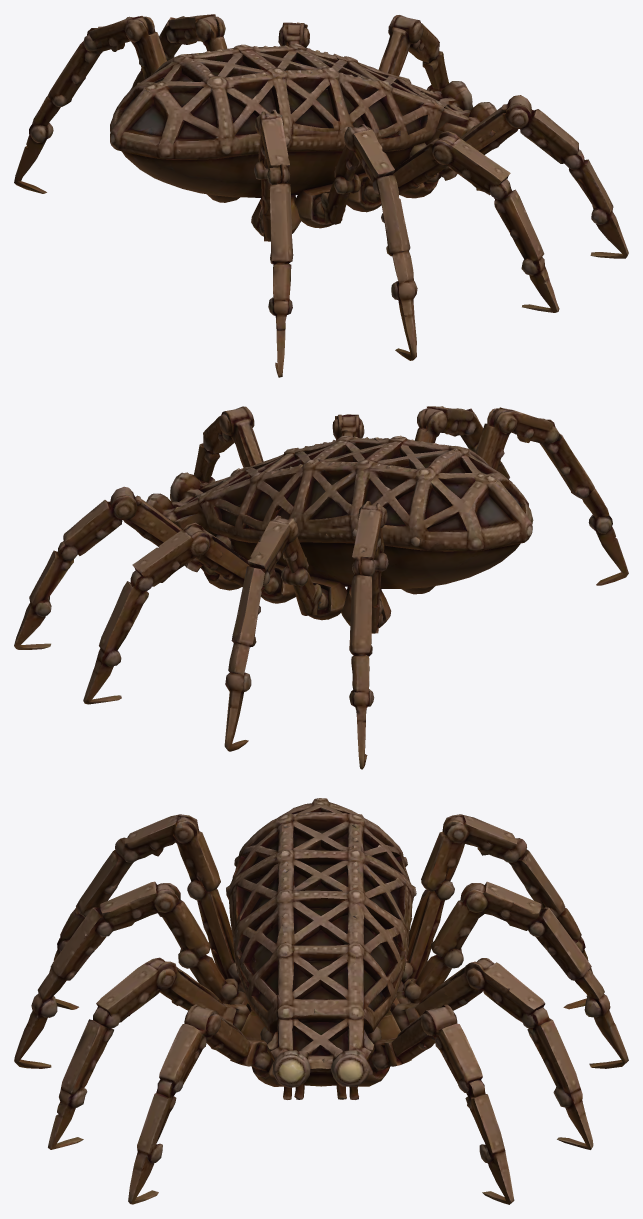
The model's file is ironSpider.glb.
3 renders of one model, top to bottom at view 1: azimuth 30°, elevation 25°; view 2: azimuth 150°, elevation 25°; view 3: azimuth 270°, elevation 25°, orthographic. The views are drawn at different scales.
Visible parts, largest first — view 1: geometry_0; view 2: geometry_0; view 3: geometry_0.
Part boxes in pixels (<box>): geometry_0: <box>14,14,628,377</box>; geometry_0: <box>14,406,628,769</box>; geometry_0: <box>14,798,628,1204</box>.
Size of the model in its own units: 0.8419 by 0.394 by 0.9995.
Materials: 1 (1 with a texture image).
